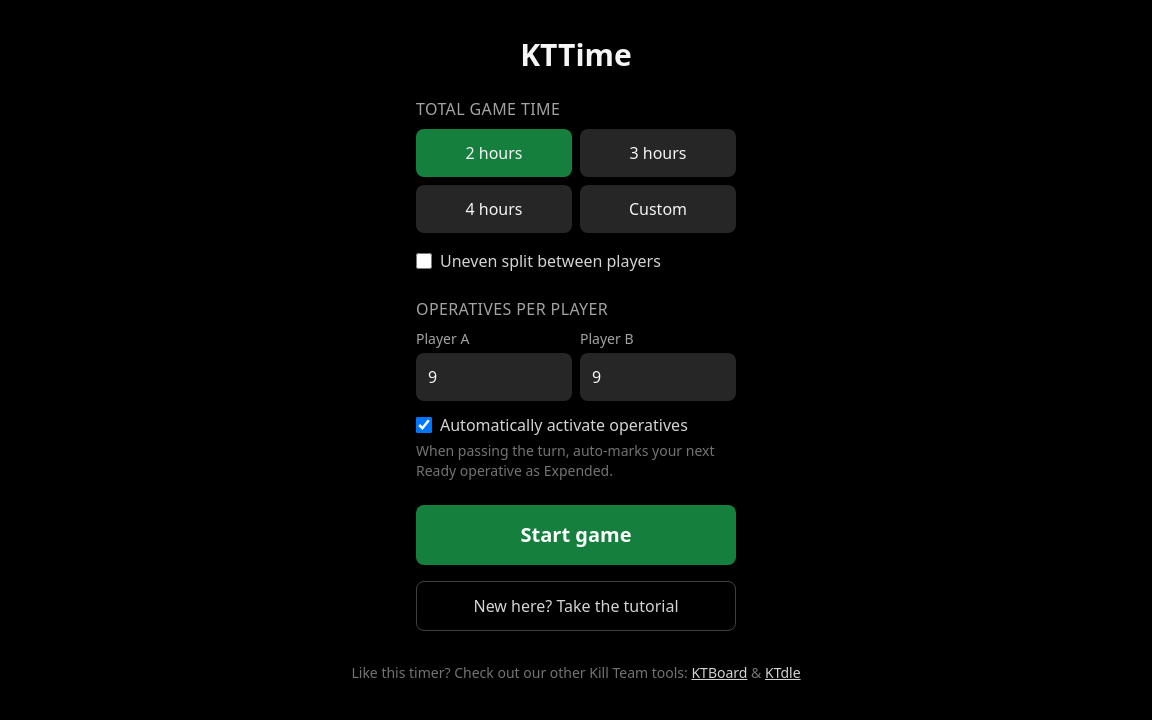
Test: App › long-pressing a player zone opens the menu on release; reset from it returns to the setup screen
The width and height of the screenshot is (1152, 720).
Click the button "Start game". click: [576, 535]
box: x1=416 y1=505 x2=736 y2=565
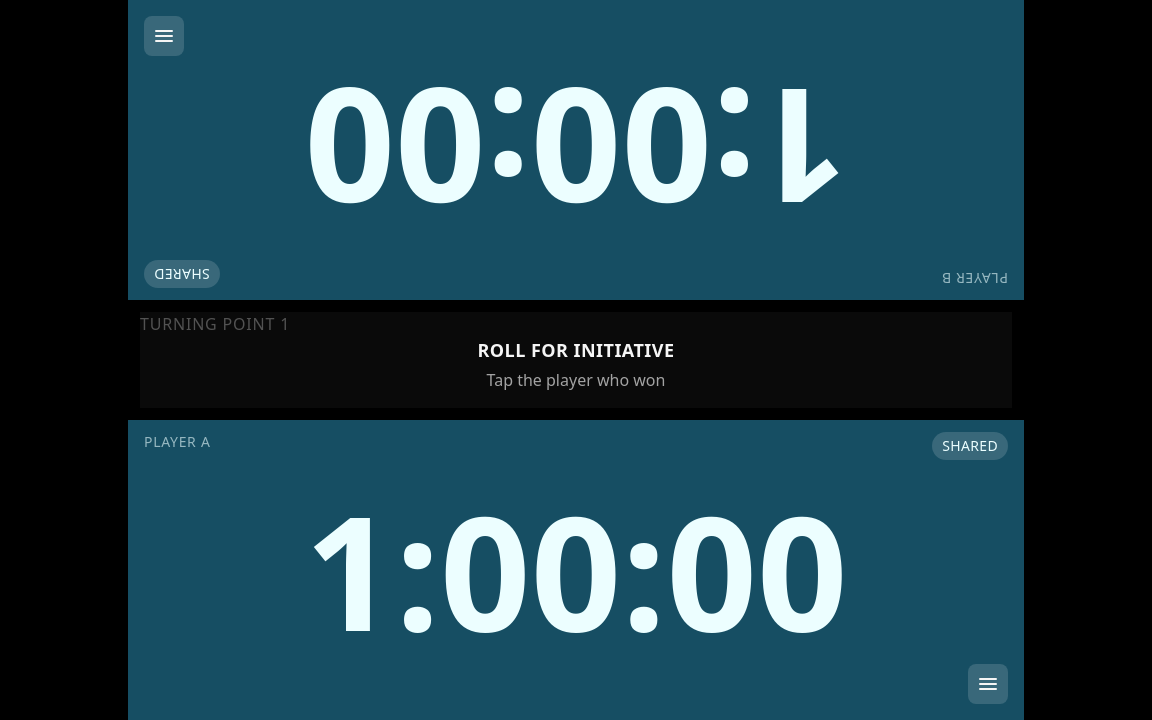
Press the mouse on the button named "Player A zone" at [576, 570], box x1=128 y1=420 x2=1024 y2=719
Wait 600 ms
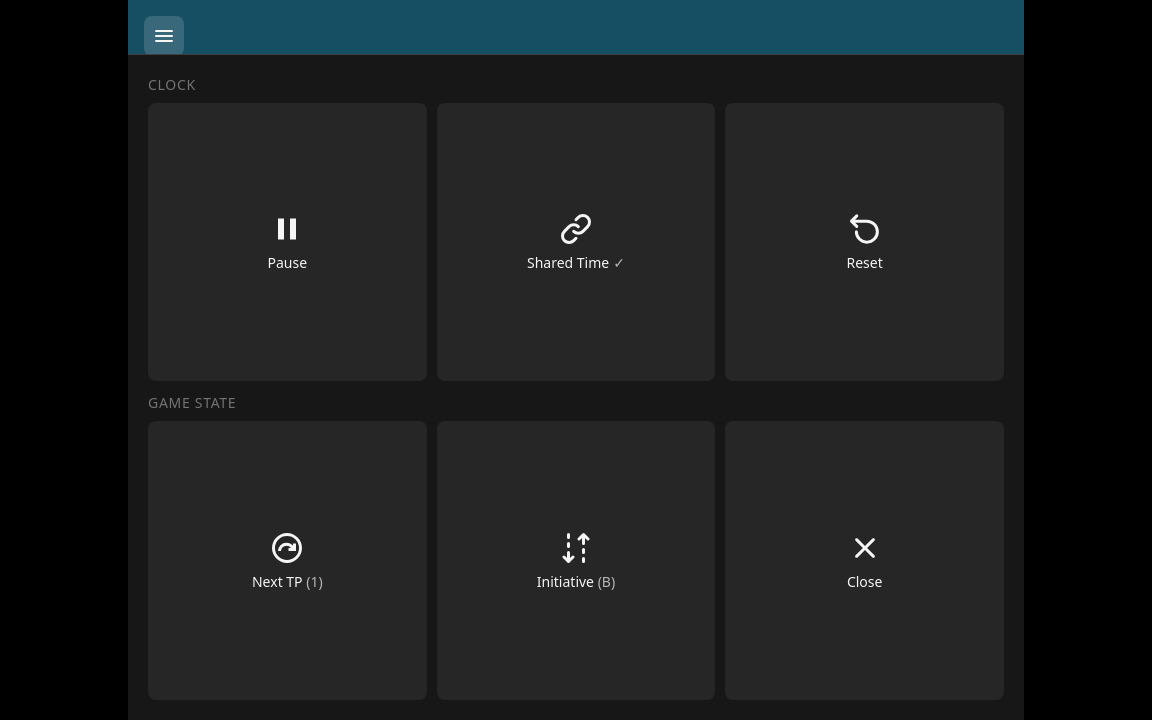
Click the button "Reset". click: [865, 242]
box: x1=725 y1=103 x2=1004 y2=381
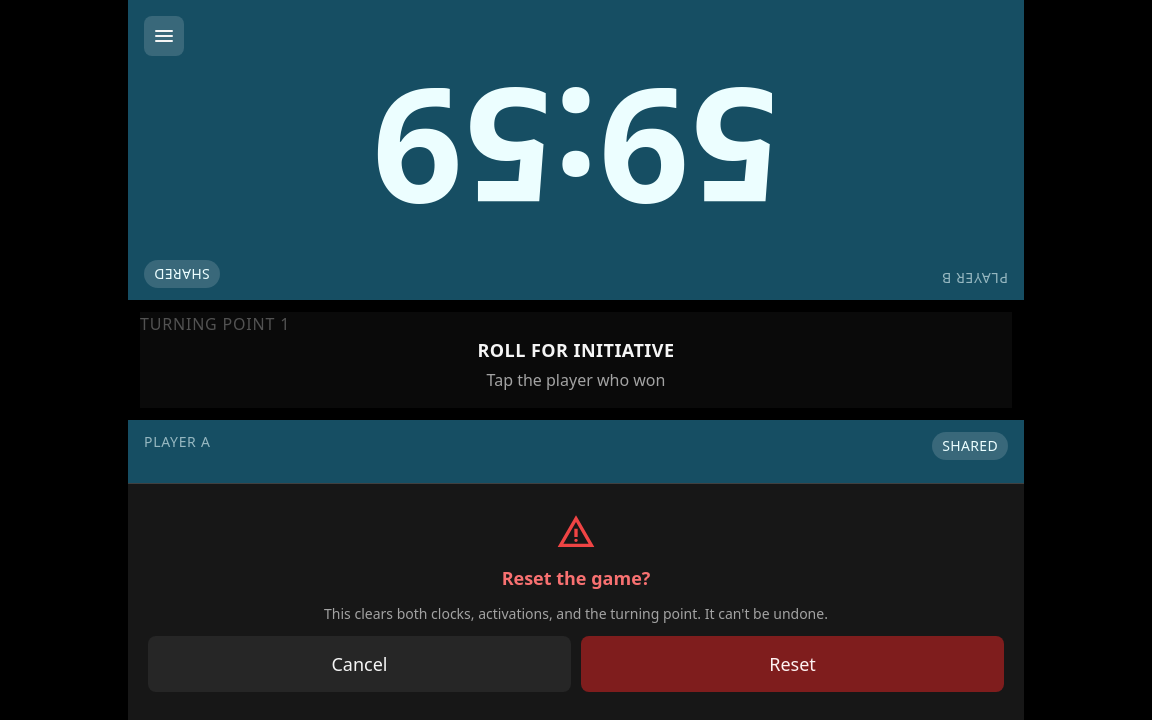
Click the button "Reset". click: [792, 664]
box: x1=581 y1=636 x2=1004 y2=692
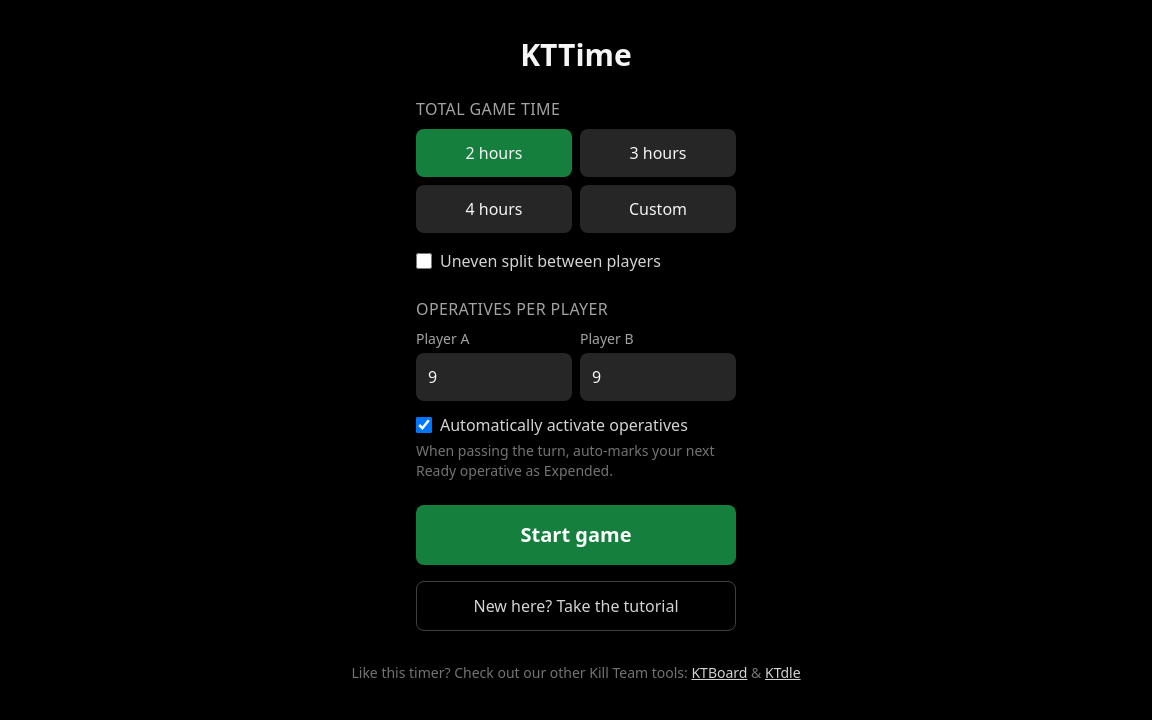
Check: the heading "KTTime" is shown, box x1=520 y1=37 x2=632 y2=73
Check: the button "Start game" is shown, box x1=416 y1=505 x2=736 y2=565
